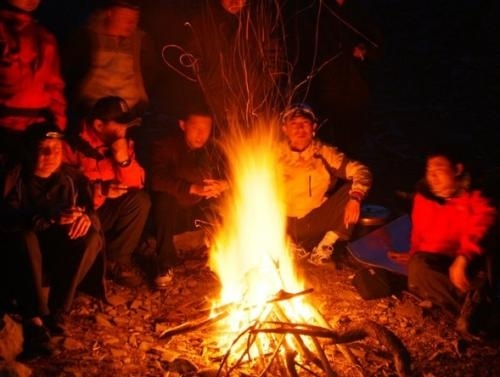fire: (204, 120, 315, 348)
